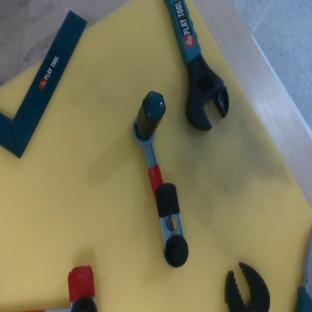non_pass: (128, 91, 191, 270)
pass: (26, 265, 97, 312)
